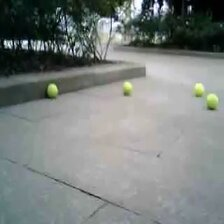tennis: (205, 93, 218, 109), (45, 83, 58, 97), (121, 82, 133, 95), (193, 83, 204, 96)
